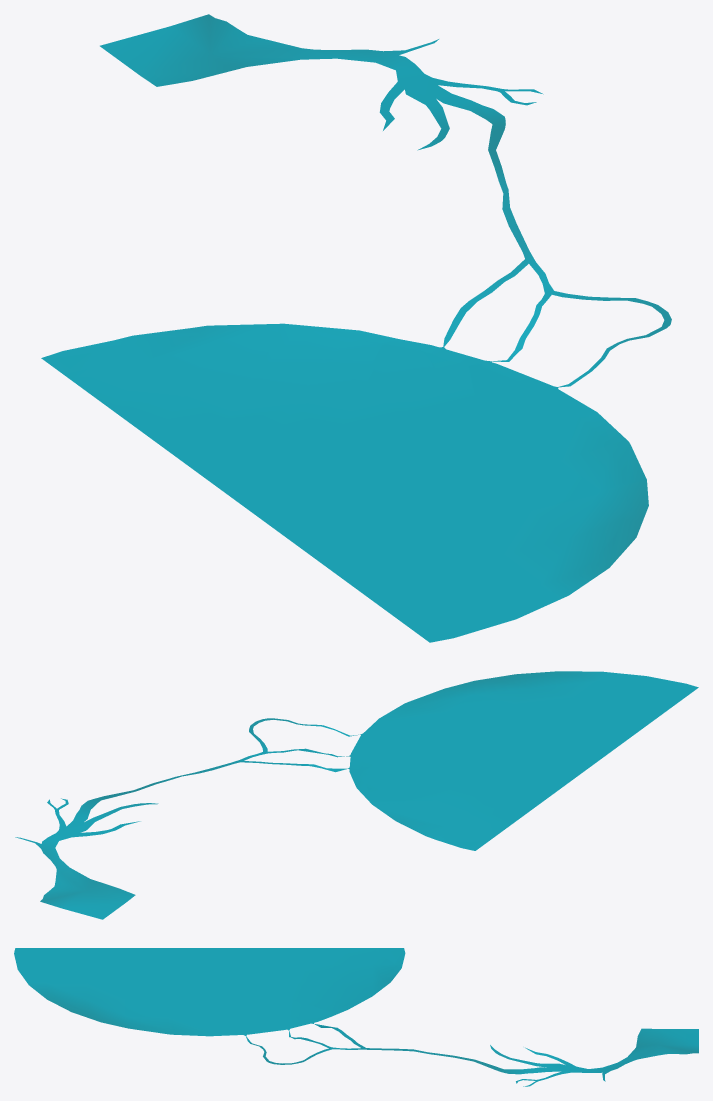
File: River.fbx
3 renders of one model, top to bottom at view 1: azimuth 30°, elevation 25°; view 2: azimuth 150°, elevation 25°; view 3: azimuth 270°, elevation 25°, orthographic. The views are drawn at different scales.
Parts seen in each view (by area): view 1: River; view 2: River; view 3: River.
Boxes of the visible parts, <box> form: River: <box>41,14,671,642</box>; River: <box>15,671,698,919</box>; River: <box>14,948,698,1086</box>.
Size of the model in its own units: 9963 by 581 by 19020.
